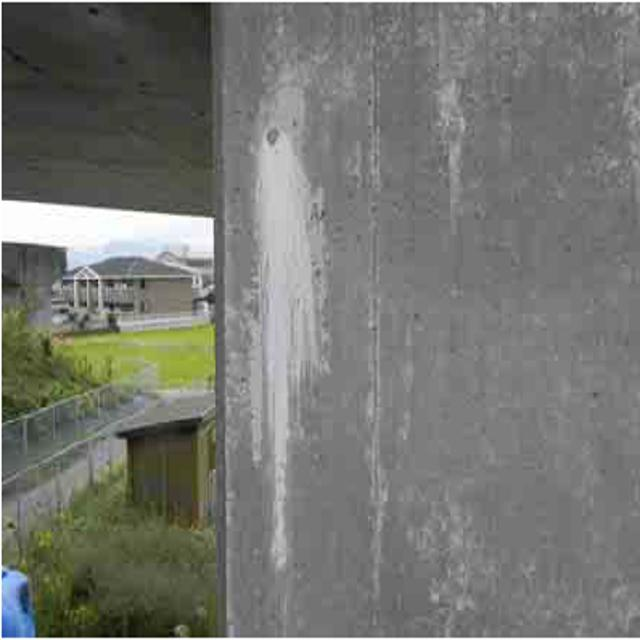freelime: (241, 84, 323, 580)
